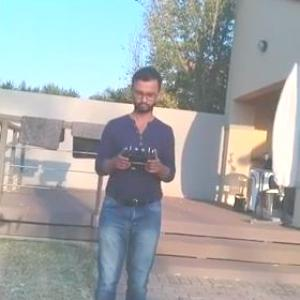follow: (86, 62, 182, 299)
